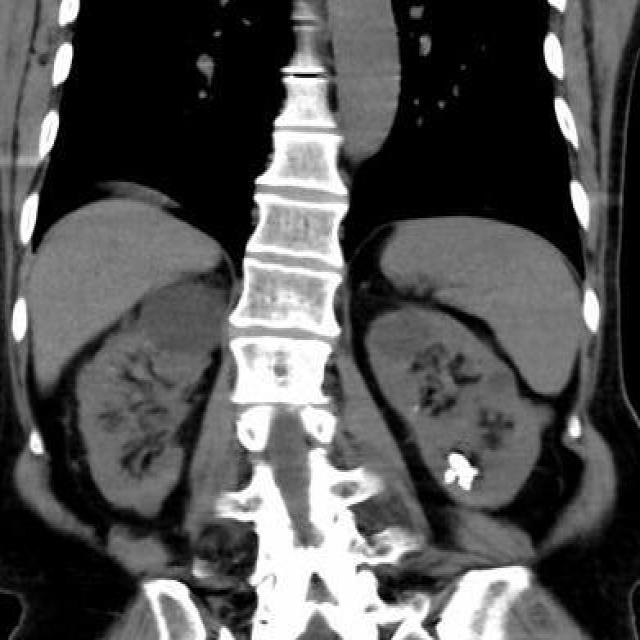Tas_Var: (448, 447, 480, 491), (443, 468, 456, 488), (411, 403, 424, 413)
